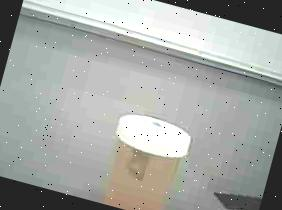Bottle B: (93, 107, 195, 210)
